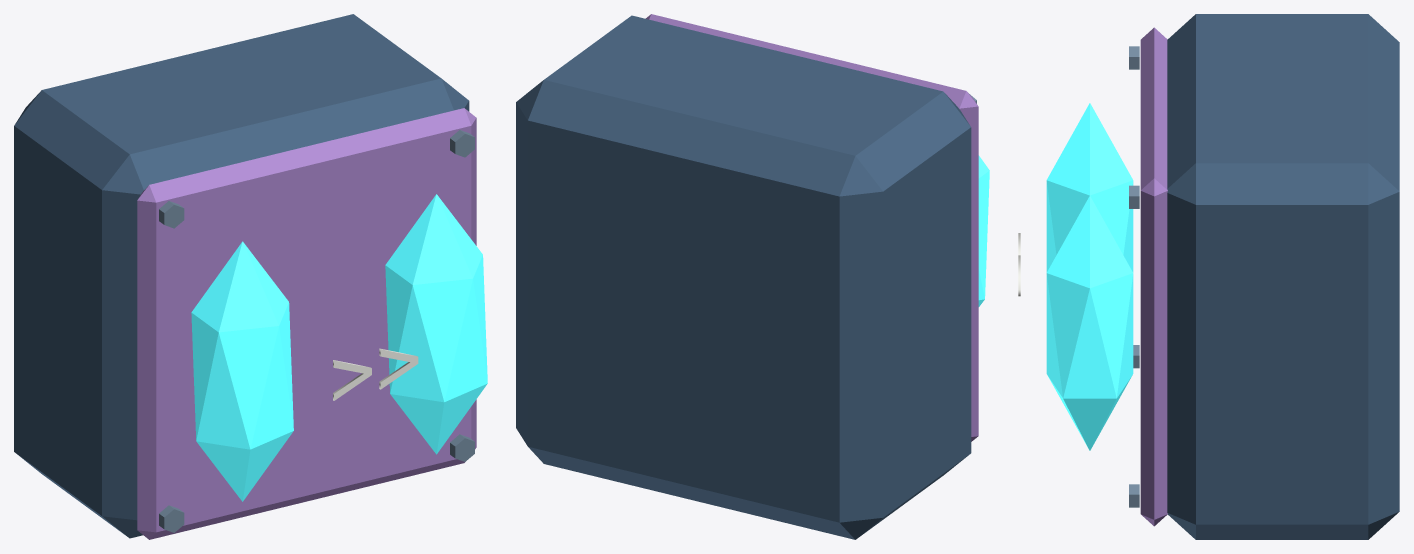
File: displacer.glb
3 views of the same model, side by side, from view 1: azimuth 30°, elevation 25°; view 2: azimuth 150°, elevation 25°; view 3: azimuth 270°, elevation 25° (orthographic).
Visible parts, largest first — view 1: Structural core.007, Front armor.007, Phase crystal, Phase crystal.001, Phase direction; view 2: Structural core.007, Front armor.007, Phase crystal; view 3: Structural core.007, Phase crystal.001, Front armor.007, Phase crystal.
Part boxes in pixels (left/top/right/bottom): Structural core.007: left=14, top=14, right=469, bottom=538; Front armor.007: left=137, top=108, right=476, bottom=539; Phase crystal: left=191, top=241, right=293, bottom=501; Phase crystal.001: left=385, top=194, right=487, bottom=454; Phase direction: left=333, top=348, right=418, bottom=400; Structural core.007: left=516, top=15, right=971, bottom=539; Front armor.007: left=645, top=14, right=978, bottom=441; Phase crystal: left=978, top=155, right=989, bottom=306; Structural core.007: left=1167, top=14, right=1399, bottom=539; Phase crystal.001: left=1046, top=196, right=1133, bottom=450; Front armor.007: left=1140, top=27, right=1167, bottom=526; Phase crystal: left=1046, top=103, right=1133, bottom=272.
Bounding box in the file's own units: 1.06 × 1.06 × 0.973.
